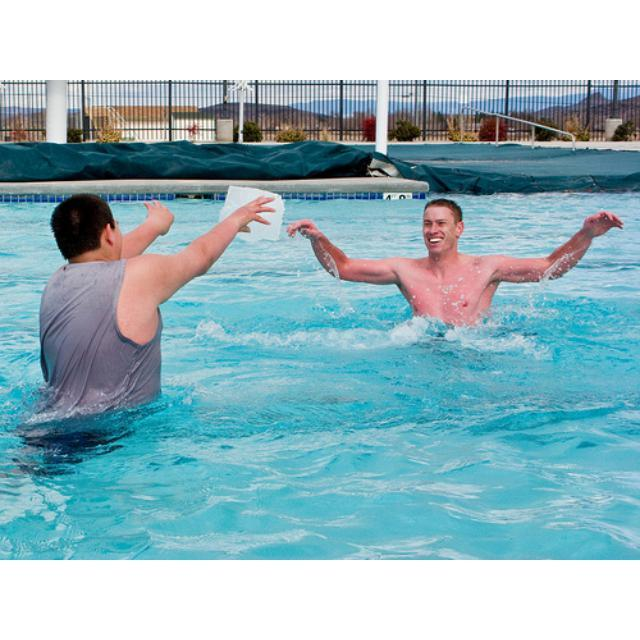human: (33, 180, 277, 436), (288, 192, 625, 332)
